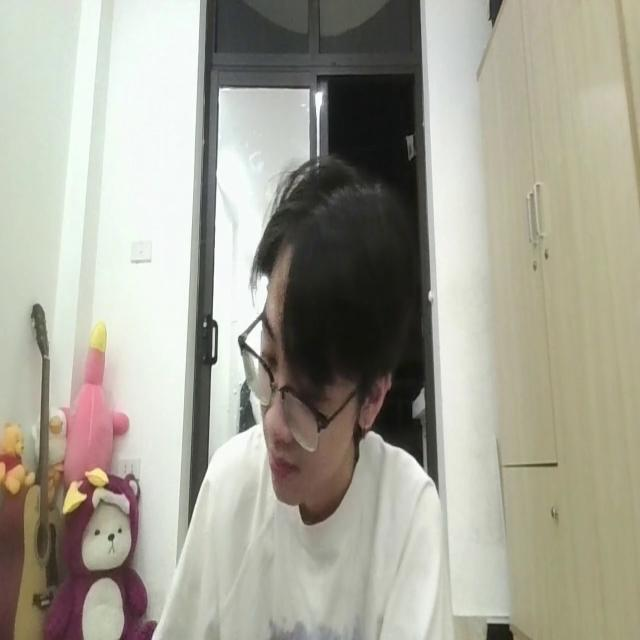student: (149, 153, 451, 640)
